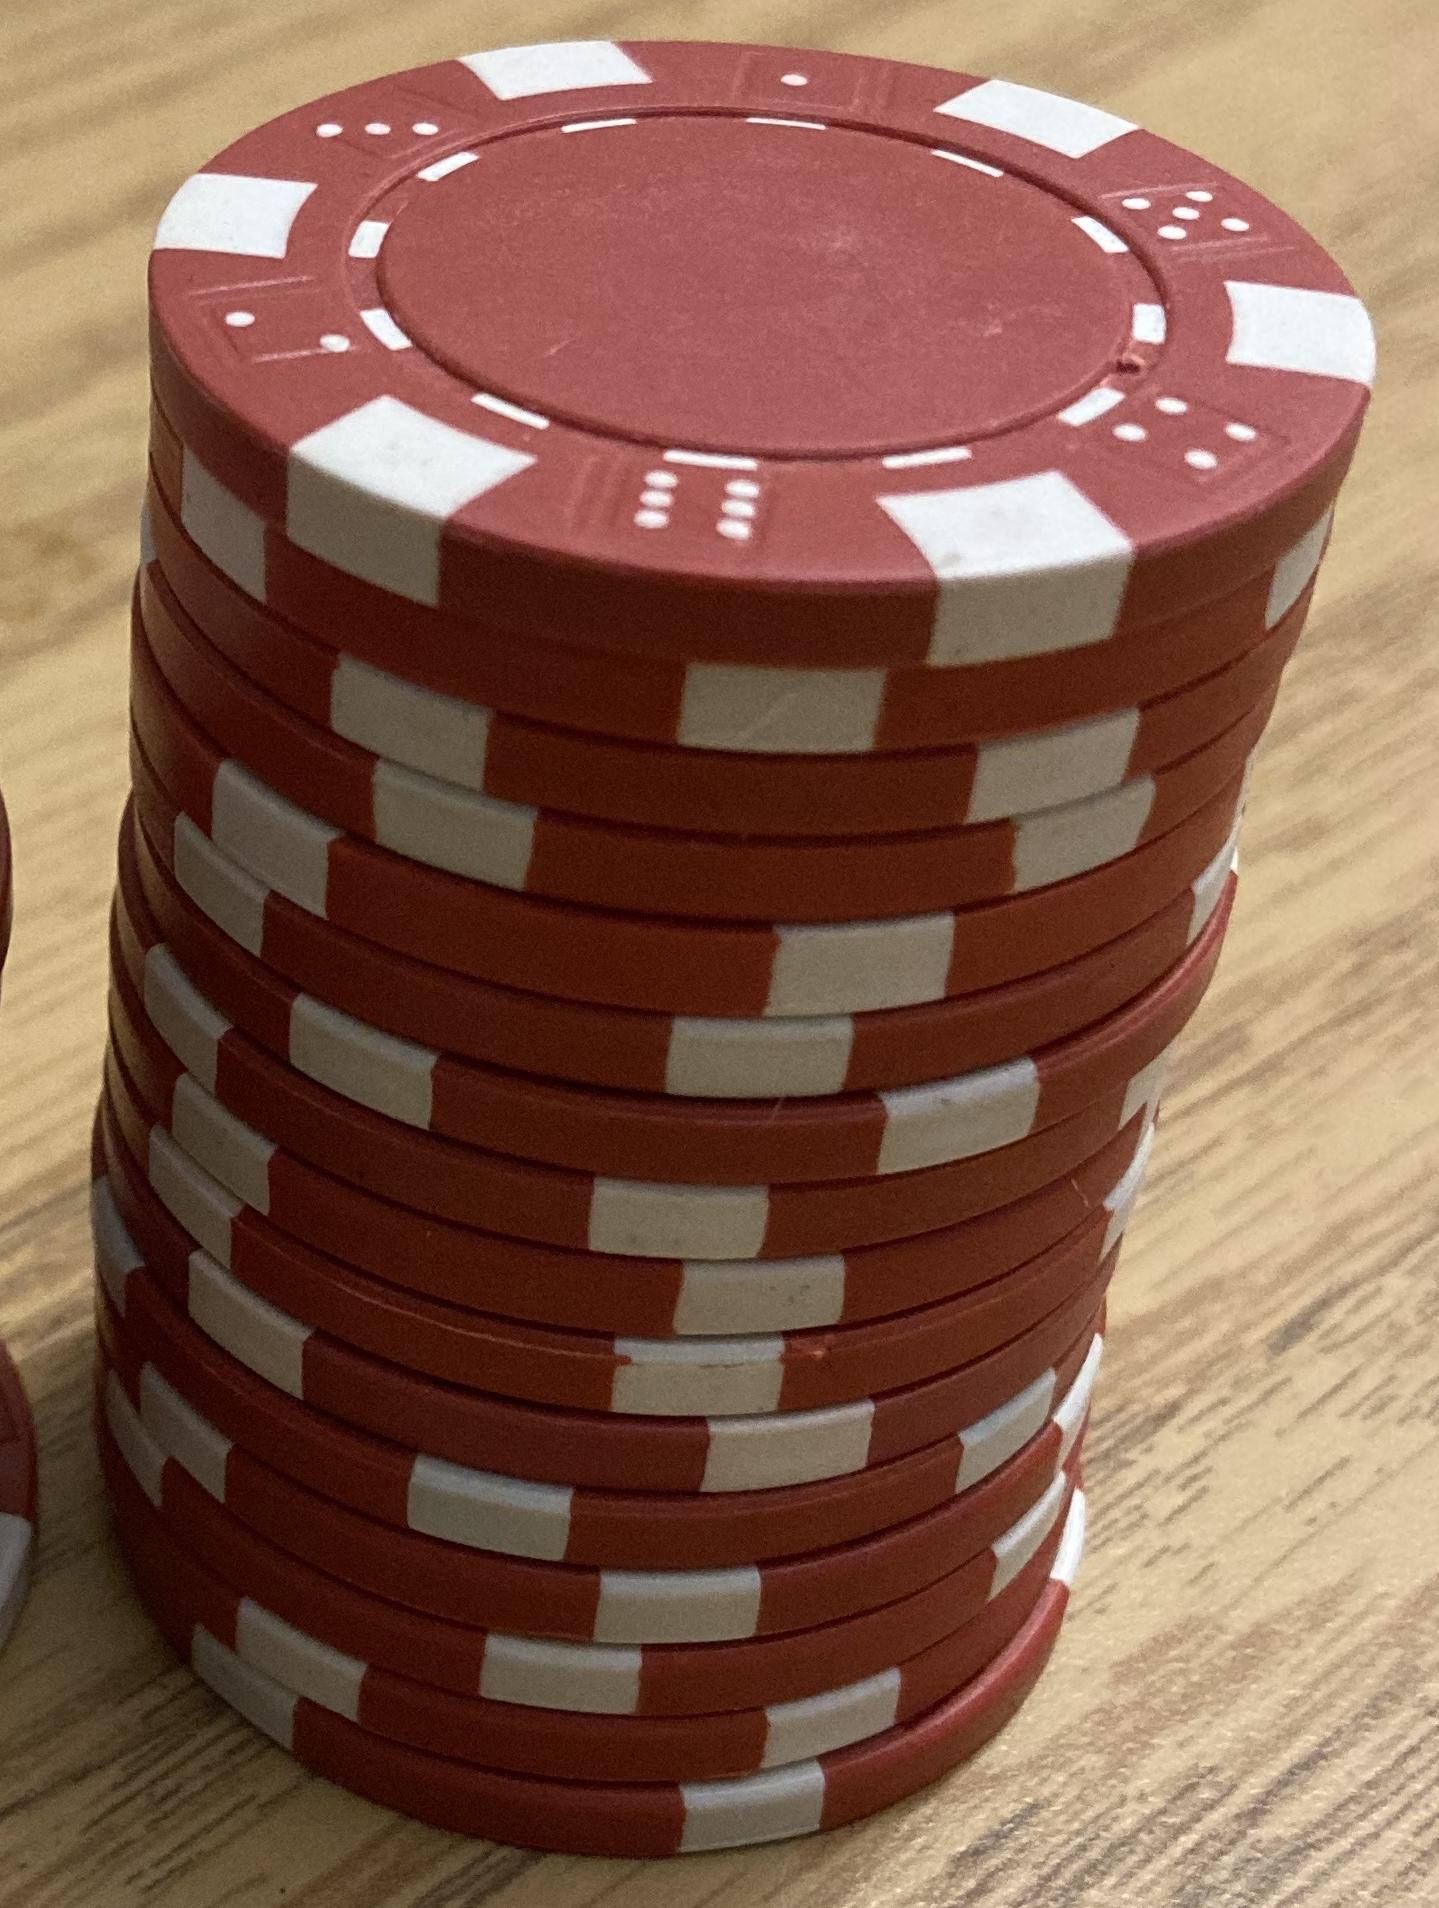Chip: (1, 1, 1439, 1908)
